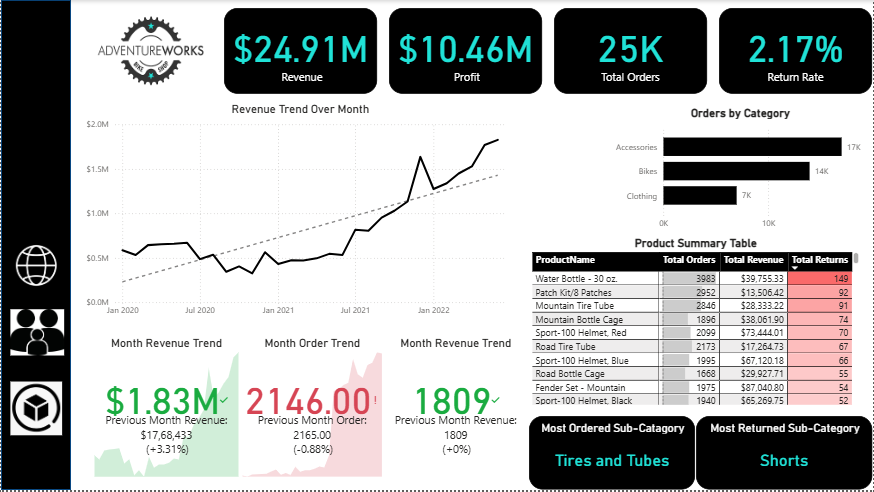

Layout of this report page (visuals, bound fields, positions):
{"tool":"powerbi","page":{"name":"Executive Summary","canvas":[1280,720],"ordinal":0},"visuals":[{"type":"image","box":[120,11.9,200,125.9],"z":0},{"type":"shape","box":[0,0,102.9,720],"z":1000},{"type":"card","fields":{"Values":["Measure Table.Total Revenue"]},"box":[327.7,11.8,224.8,126.4],"z":2000},{"type":"card","fields":{"Values":["Measure Table.Total Profit"]},"box":[570.1,11.8,224.8,126.4],"z":3000},{"type":"card","fields":{"Values":["Measure Table.Total Orders"]},"box":[812.6,11.8,224.8,126.4],"z":4000},{"type":"card","fields":{"Values":["Measure Table.Return Rate"]},"box":[1055,11.8,224.8,126.4],"z":5000},{"type":"barChart","title":"Orders by Category","fields":{"Category":["Product Categories Lookup.CategoryName"],"Y":["Measure Table.Total Orders"]},"box":[893.6,156.2,386.4,189.8],"z":6000},{"type":"lineChart","title":"Revenue Trend Over Month","fields":{"Y":["Measure Table.Total Revenue"],"Category":["Calendar Lookup.Start of Month.Variation.Date Hierarchy.Year","Calendar Lookup.Start of Month.Variation.Date Hierarchy.Quarter","Calendar Lookup.Start of Month.Variation.Date Hierarchy.Month","Calendar Lookup.Start of Month.Variation.Date Hierarchy.Day"]},"box":[120,149.6,638.5,324.4],"z":7000},{"type":"kpi","title":"Month Revenue Trend","fields":{"Indicator":["Measure Table.Total Revenue"],"TrendLine":["Calendar Lookup.Start of Month"],"Goal":["Measure Table.Prev Month Revenue"]},"box":[132.7,493.9,221.7,211.7],"z":8000},{"type":"kpi","title":"Month Order Trend","fields":{"TrendLine":["Calendar Lookup.Start of Month"],"Indicator":["Measure Table.Total Orders"],"Goal":["Measure Table.Prev Month Order"]},"box":[349.4,493.9,215,211.7],"z":9000},{"type":"kpi","title":"Month Revenue Trend","fields":{"TrendLine":["Calendar Lookup.Start of Month"],"Indicator":["Measure Table.Total Returns"],"Goal":["Measure Table.Prev Month Return"]},"box":[559.4,493.9,216.7,211.7],"z":10000},{"type":"pivotTable","title":"Product Summary Table","fields":{"Rows":["Product Lookup.ProductName"],"Values":["Measure Table.Total Orders","Measure Table.Total Revenue","Measure Table.Total Returns"]},"box":[776.3,346.7,490.4,253.3],"z":11000},{"type":"card","title":"Most Ordered Sub-Catagory","fields":{"Values":["Min(Product Subcategories Lookup.SubcategoryName)"]},"box":[776.3,611.9,244.4,108.1],"z":12000},{"type":"card","title":"Most Returned Sub-Category","fields":{"Values":["Min(Product Subcategories Lookup.SubcategoryName)"]},"box":[1020.7,611.9,259.3,108.1],"z":13000},{"type":"image","box":[8.9,334.8,85.9,109.6],"z":14000},{"type":"image","title":"Click Here to Customer Page","box":[8.9,414.8,88.9,148.1],"z":15000},{"type":"image","box":[8.9,546.7,85.9,106.7],"z":16000}]}

Visuals, with their boxes in screenshot pixels (x1, y1, x2, y2), scaled from the page's 1280x720 canvas onto the 874x492 screenshot:
image: (left=82, top=8, right=218, bottom=94)
shape: (left=0, top=0, right=70, bottom=491)
card - Measure Table.Total Revenue: (left=224, top=8, right=377, bottom=94)
card - Measure Table.Total Profit: (left=389, top=8, right=543, bottom=94)
card - Measure Table.Total Orders: (left=555, top=8, right=708, bottom=94)
card - Measure Table.Return Rate: (left=720, top=8, right=873, bottom=94)
"Orders by Category" barChart: (left=610, top=107, right=873, bottom=236)
"Revenue Trend Over Month" lineChart: (left=82, top=102, right=518, bottom=324)
"Month Revenue Trend" kpi: (left=91, top=337, right=242, bottom=482)
"Month Order Trend" kpi: (left=239, top=337, right=385, bottom=482)
"Month Revenue Trend" kpi: (left=382, top=337, right=530, bottom=482)
"Product Summary Table" pivotTable: (left=530, top=237, right=865, bottom=410)
"Most Ordered Sub-Catagory" card: (left=530, top=418, right=697, bottom=491)
"Most Returned Sub-Category" card: (left=697, top=418, right=873, bottom=491)
image: (left=6, top=229, right=65, bottom=304)
"Click Here to Customer Page" image: (left=6, top=283, right=67, bottom=385)
image: (left=6, top=374, right=65, bottom=446)
